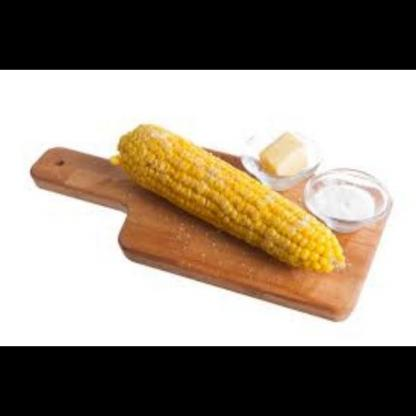corn: (113, 119, 352, 275)
